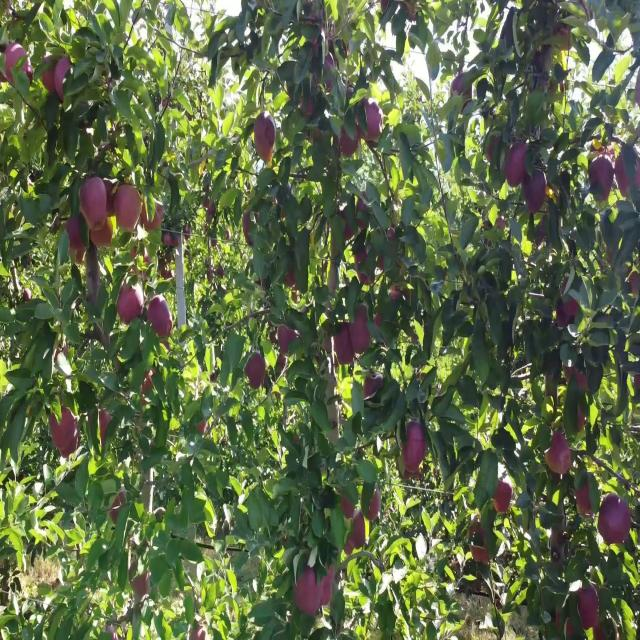apple: (296, 561, 336, 619), (600, 490, 632, 548), (532, 49, 565, 98), (48, 405, 79, 453), (588, 149, 615, 204), (80, 177, 106, 228), (64, 213, 89, 265), (404, 419, 428, 473), (576, 583, 601, 633), (116, 184, 142, 231), (340, 199, 368, 242), (504, 142, 528, 190), (548, 433, 573, 478), (148, 298, 174, 340), (524, 170, 548, 215), (4, 42, 29, 85), (361, 99, 384, 144), (120, 284, 144, 327), (352, 305, 372, 356), (256, 113, 276, 164), (468, 519, 490, 565), (344, 519, 368, 555), (348, 199, 369, 240), (244, 355, 267, 391), (92, 213, 115, 249), (304, 14, 327, 50), (616, 156, 635, 199), (56, 56, 72, 105), (336, 327, 355, 368), (452, 71, 473, 108), (356, 248, 375, 288), (492, 483, 514, 517), (556, 298, 580, 329), (320, 49, 336, 92), (276, 327, 299, 356), (625, 156, 640, 199), (340, 127, 360, 158), (544, 369, 564, 400), (576, 483, 593, 519), (352, 199, 369, 233), (140, 369, 155, 407), (564, 369, 588, 391), (112, 490, 126, 526), (340, 206, 354, 242), (552, 28, 572, 53), (40, 63, 56, 94), (132, 575, 151, 601), (556, 611, 574, 638), (244, 213, 257, 249), (356, 199, 369, 233), (364, 376, 384, 398), (368, 490, 382, 521), (324, 56, 336, 92), (100, 412, 112, 444), (488, 135, 501, 164), (340, 497, 357, 519), (628, 270, 640, 300), (364, 376, 379, 398), (576, 405, 587, 434), (392, 284, 409, 300), (304, 99, 316, 121), (24, 63, 35, 85), (192, 625, 207, 639), (288, 270, 296, 290), (200, 419, 208, 436), (636, 78, 640, 108), (376, 312, 381, 327), (636, 376, 640, 393)
